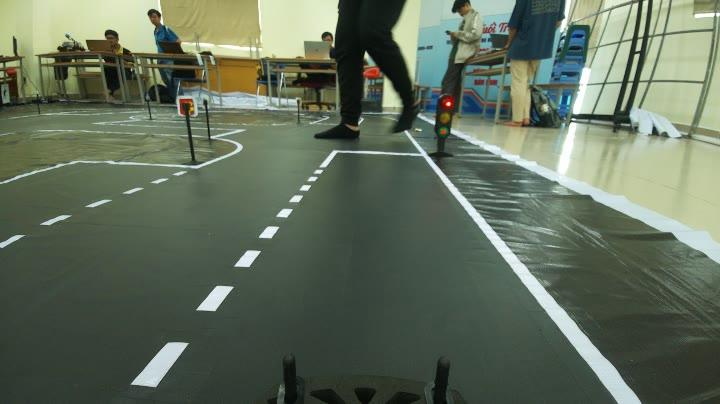trafficlight: (420, 90, 463, 164)
